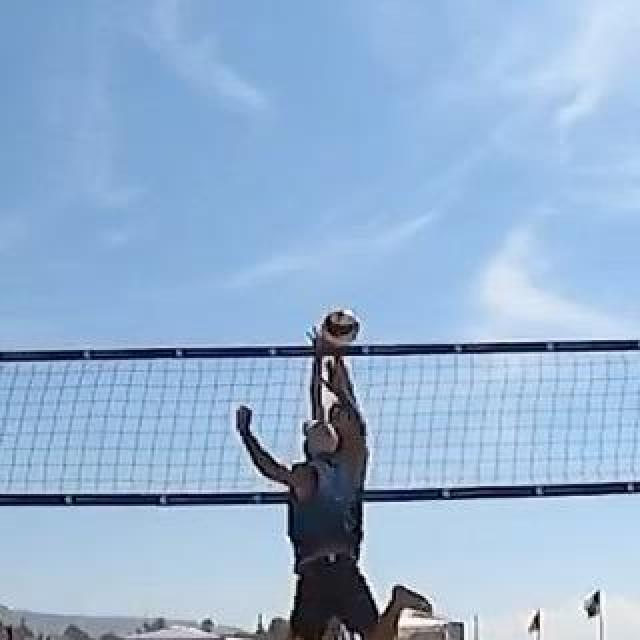volleyball: (327, 311, 359, 343)
